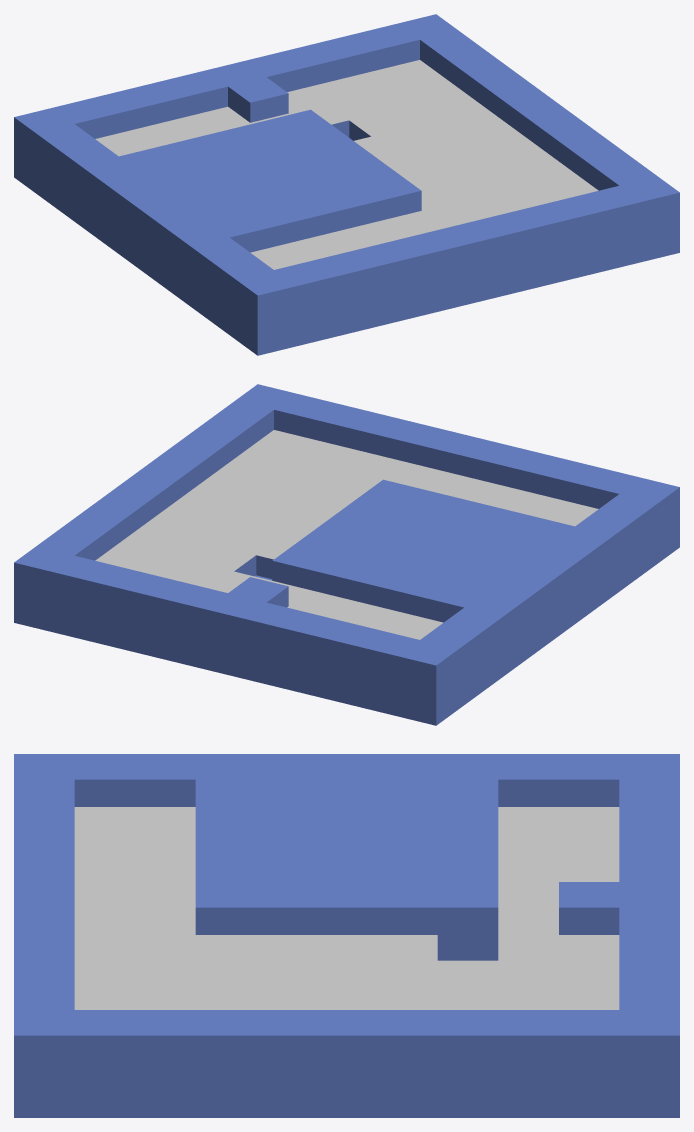
Rendered from 006_platform.fbx.
The picture shows the model from 3 angles, top to bottom: view 1: azimuth 30°, elevation 25°; view 2: azimuth 150°, elevation 25°; view 3: azimuth 270°, elevation 25°; orthographic projection. The views are drawn at different scales.
Visible parts, largest first — view 1: Cube; view 2: Cube; view 3: Cube.
Part boxes in pixels (box(x1,y1,x2,y2)): Cube: box(14, 14, 679, 355); Cube: box(14, 384, 679, 725); Cube: box(14, 754, 679, 1117).
Size of the model in its own units: 1100 by 150 by 1100.
